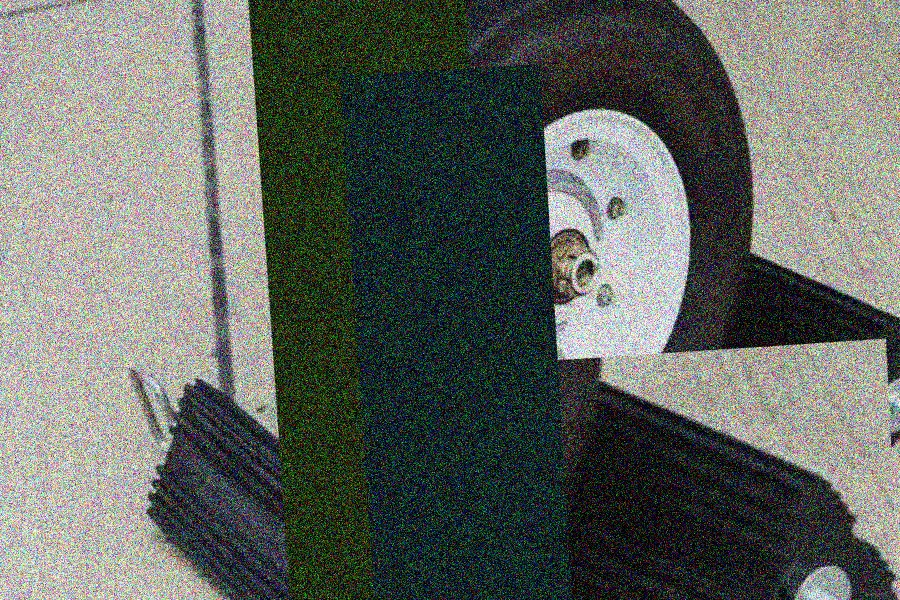chock: (418, 339, 900, 600), (133, 355, 513, 600), (630, 226, 900, 483), (363, 416, 655, 600)
wheel: (259, 0, 770, 567)
